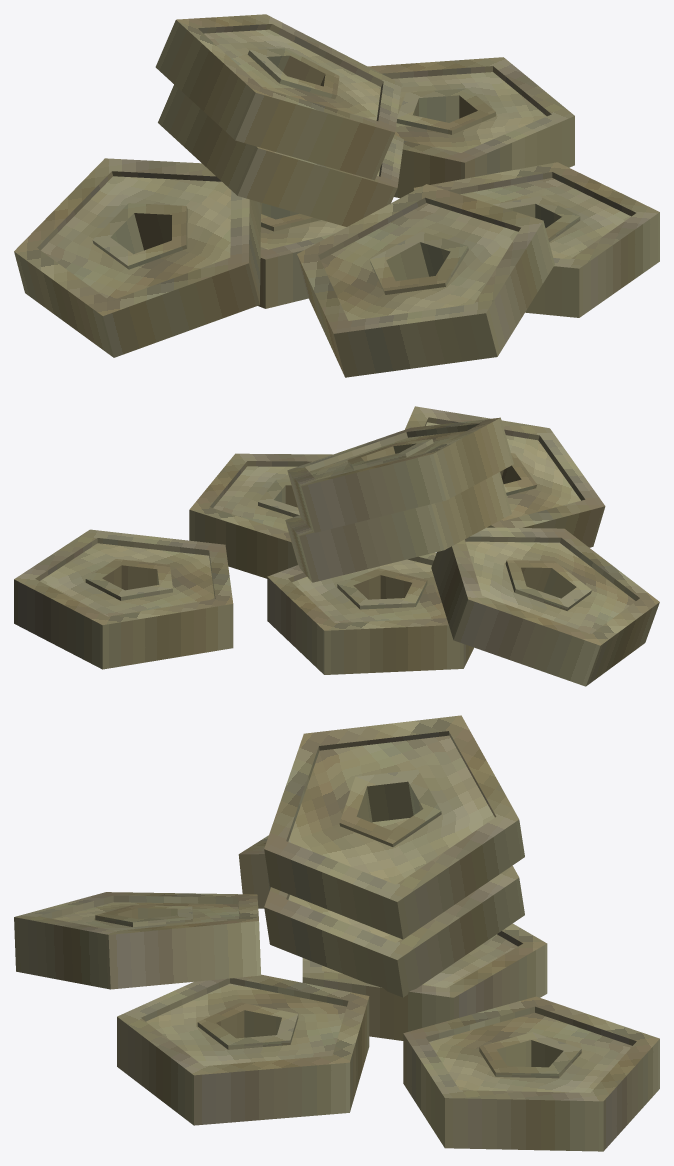
File: coin.gltf
The picture shows the model from 3 angles, top to bottom: view 1: azimuth 30°, elevation 25°; view 2: azimuth 150°, elevation 25°; view 3: azimuth 270°, elevation 25°; orthographic projection. The views are drawn at different scales.
Visible parts, largest first — view 1: Coin; view 2: Coin; view 3: Coin.
Part boxes in pixels (x1,y1,x2,y2): Coin: [14, 14, 659, 377]; Coin: [14, 406, 659, 686]; Coin: [14, 715, 659, 1151].
Bounding box in the file's own units: 0.6953 × 0.2768 × 0.6692.
1 material, 1 textured.
